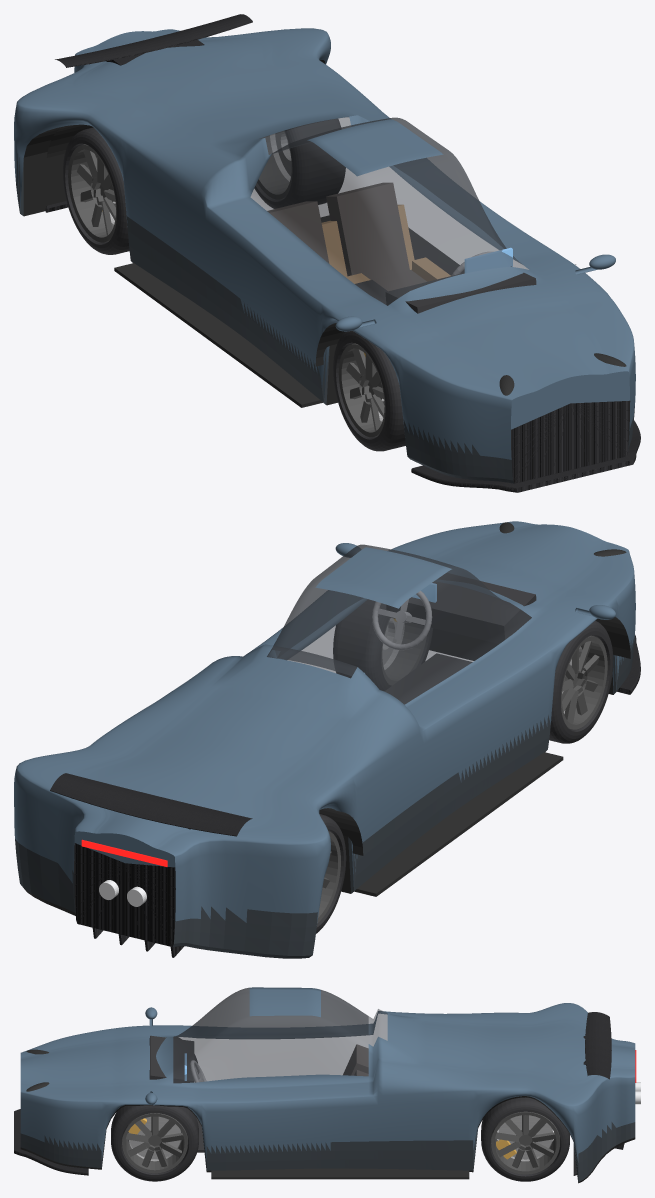
File: koenigsegg-gemera.glb
3 views of the same model, one above another, from view 1: azimuth 30°, elevation 25°; view 2: azimuth 150°, elevation 25°; view 3: azimuth 270°, elevation 25° (orthographic). The views are drawn at different scales.
Parts seen in each view (by area): view 1: Body_PrimaryPaint, Glass_Windows, Carbon_Exterior, Body_SecondaryPaint, Interior_Seats, WheelWells, Tire_RL, Rim_RR, Tire_FR, Rim_FR, Underbody, Tire_RR (+5 smaller); view 2: Body_PrimaryPaint, Glass_Windows, Body_SecondaryPaint, Carbon_Exterior, WheelWells, Interior_Dashboard, Tire_FL, Rim_FR, Tire_FR, Underbody, Interior_Tub, Interior_SteeringWheel (+5 smaller); view 3: Body_PrimaryPaint, Glass_Windows, Body_SecondaryPaint, WheelWells, Rim_RL, Tire_FL, Rim_FL, Carbon_Exterior, Tire_RL, Interior_Dashboard, Underbody, BrakeDisc_RL (+2 smaller).
Part boxes in pixels (bbox=[...]): Body_PrimaryPaint: bbox=[14, 28, 635, 459]; Glass_Windows: bbox=[250, 116, 528, 305]; Carbon_Exterior: bbox=[45, 14, 640, 492]; Body_SecondaryPaint: bbox=[16, 153, 634, 483]; Interior_Seats: bbox=[267, 182, 426, 291]; WheelWells: bbox=[46, 124, 575, 407]; Tire_RL: bbox=[254, 118, 345, 208]; Rim_RR: bbox=[68, 144, 116, 242]; Tire_FR: bbox=[333, 330, 405, 451]; Rim_FR: bbox=[338, 343, 385, 437]; Underbody: bbox=[23, 60, 337, 405]; Tire_RR: bbox=[63, 127, 129, 254]; Body_PrimaryPaint: bbox=[14, 521, 635, 925]; Glass_Windows: bbox=[267, 544, 531, 704]; Body_SecondaryPaint: bbox=[15, 638, 634, 958]; Carbon_Exterior: bbox=[50, 635, 640, 957]; WheelWells: bbox=[319, 617, 630, 896]; Interior_Dashboard: bbox=[386, 573, 536, 643]; Tire_FL: bbox=[333, 599, 432, 691]; Rim_FR: bbox=[561, 635, 607, 729]; Tire_FR: bbox=[549, 620, 613, 743]; Underbody: bbox=[24, 628, 613, 915]; Interior_Tub: bbox=[385, 653, 472, 699]; Interior_SteeringWheel: bbox=[372, 591, 432, 650]; Body_PrimaryPaint: bbox=[20, 987, 635, 1175]; Glass_Windows: bbox=[173, 987, 387, 1083]; Body_SecondaryPaint: bbox=[20, 1122, 635, 1181]; WheelWells: bbox=[211, 1168, 469, 1179]; Rim_RL: bbox=[491, 1111, 559, 1174]; Tire_FL: bbox=[111, 1105, 198, 1181]; Rim_FL: bbox=[122, 1113, 187, 1173]; Carbon_Exterior: bbox=[14, 1012, 624, 1175]; Tire_RL: bbox=[481, 1097, 569, 1181]; Interior_Dashboard: bbox=[149, 1035, 194, 1083]; Underbody: bbox=[20, 1096, 635, 1183]; BrakeDisc_RL: bbox=[498, 1115, 552, 1161].
Bounding box in the file's own units: 2.02 × 1.29 × 5.08.
17 materials, 2 textured.
